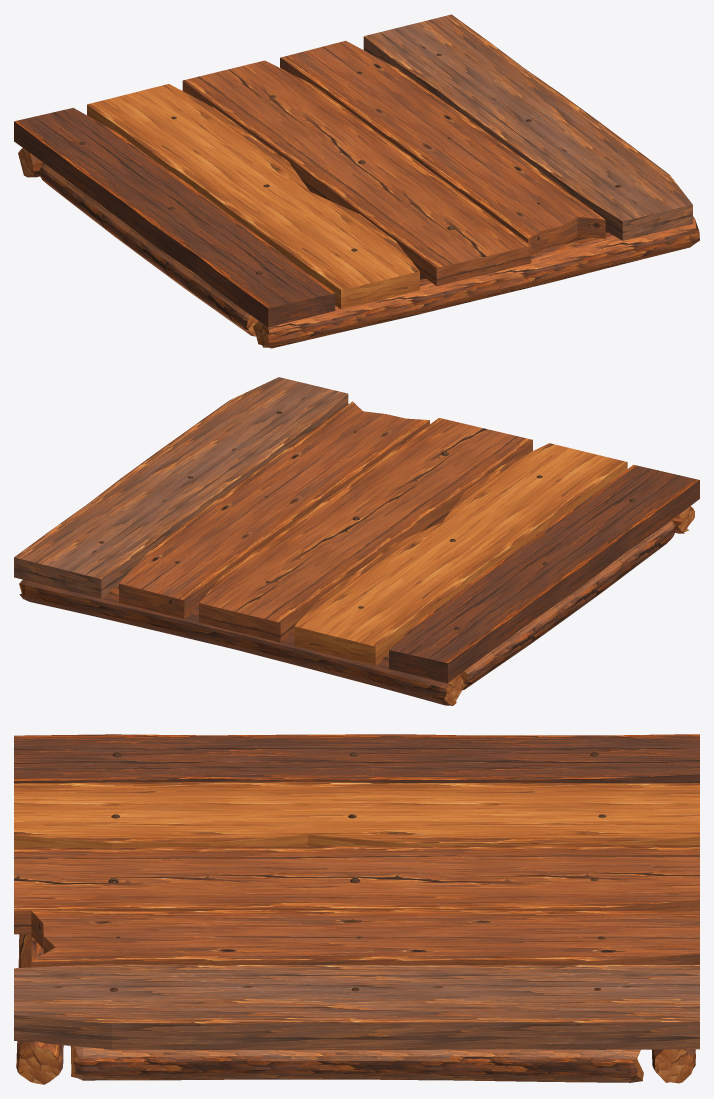
Rendered from ceiling_panel__plank_root.glb.
3 views of the same model, one above another, from view 1: azimuth 30°, elevation 25°; view 2: azimuth 150°, elevation 25°; view 3: azimuth 270°, elevation 25° (orthographic). The views are drawn at different scales.
Visible parts, largest first — view 1: model; view 2: model; view 3: model.
Boxes of the visible parts, x1,y1,x2,y2 form: model: [14, 14, 699, 348]; model: [14, 377, 699, 705]; model: [14, 734, 699, 1084].
Bounding box in the file's own units: 1.99 × 0.2294 × 1.99.
Materials: 18 (18 with a texture image).
